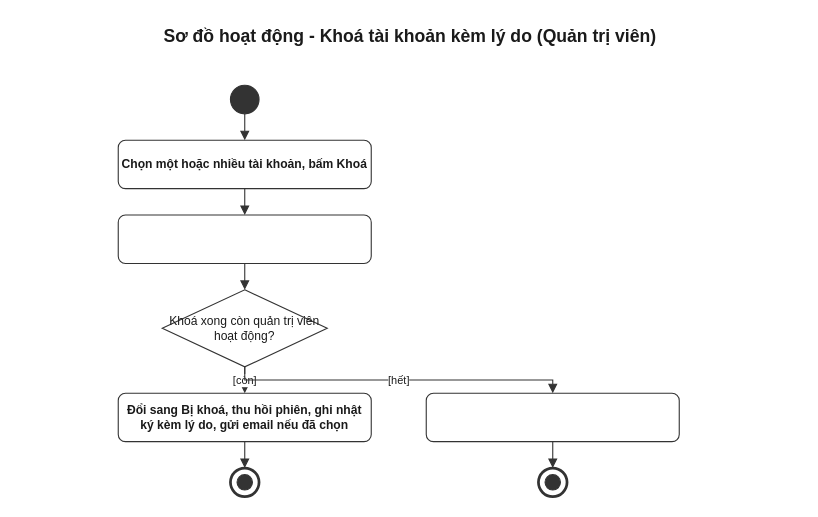
Some shapes in this 818 by 517 pixel diagram are drawn without their labels. The shapes that lost their labels are listed below. From the top down, each one's centre as x and y in pixels, then its label:
At point (244, 238): "Nhập lý do bắt buộc, chọn gửi email thông báo".
At point (552, 417): "Chặn, không tài khoản nào đổi".
